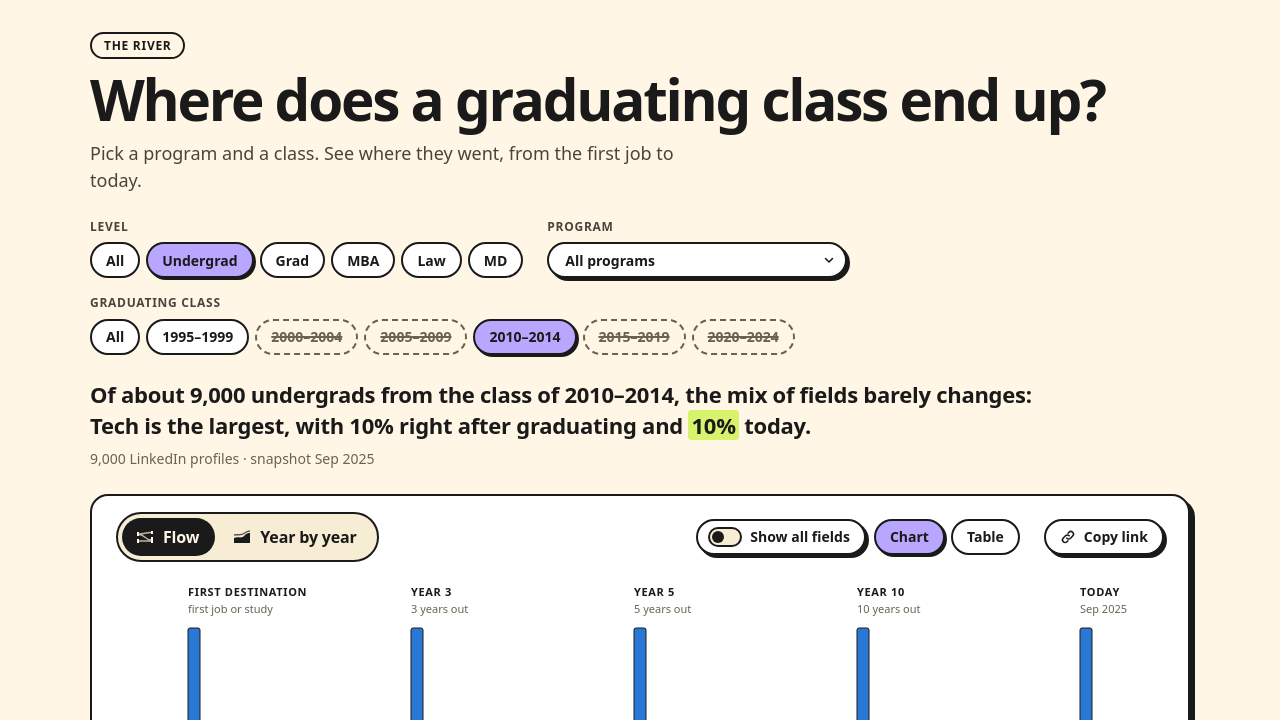
RiverView › filters programs in the combobox and picks one with the keyboard
Step 1. Replace the text in the dropdown labelled "Program" with "art" → (697, 260), box [547, 242, 847, 278]
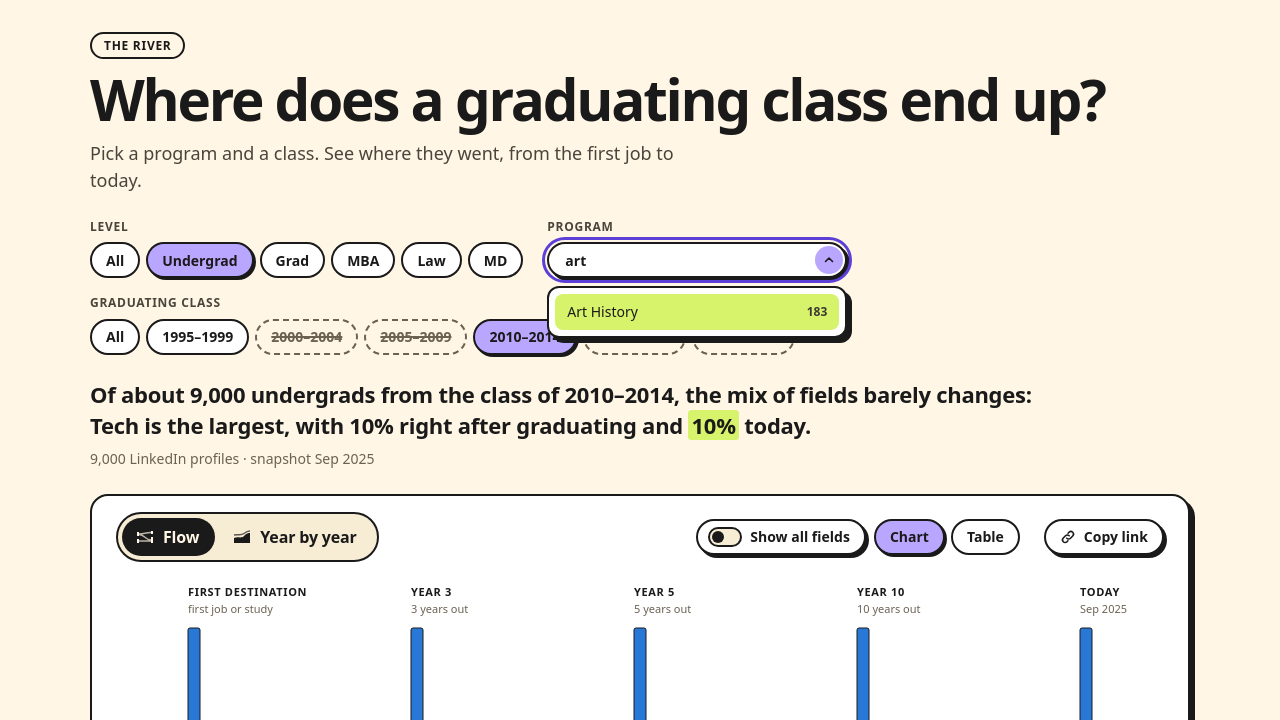
Expected: the options read "Art History183", in this order, [555, 294, 839, 330]
Step 2. Press Enter
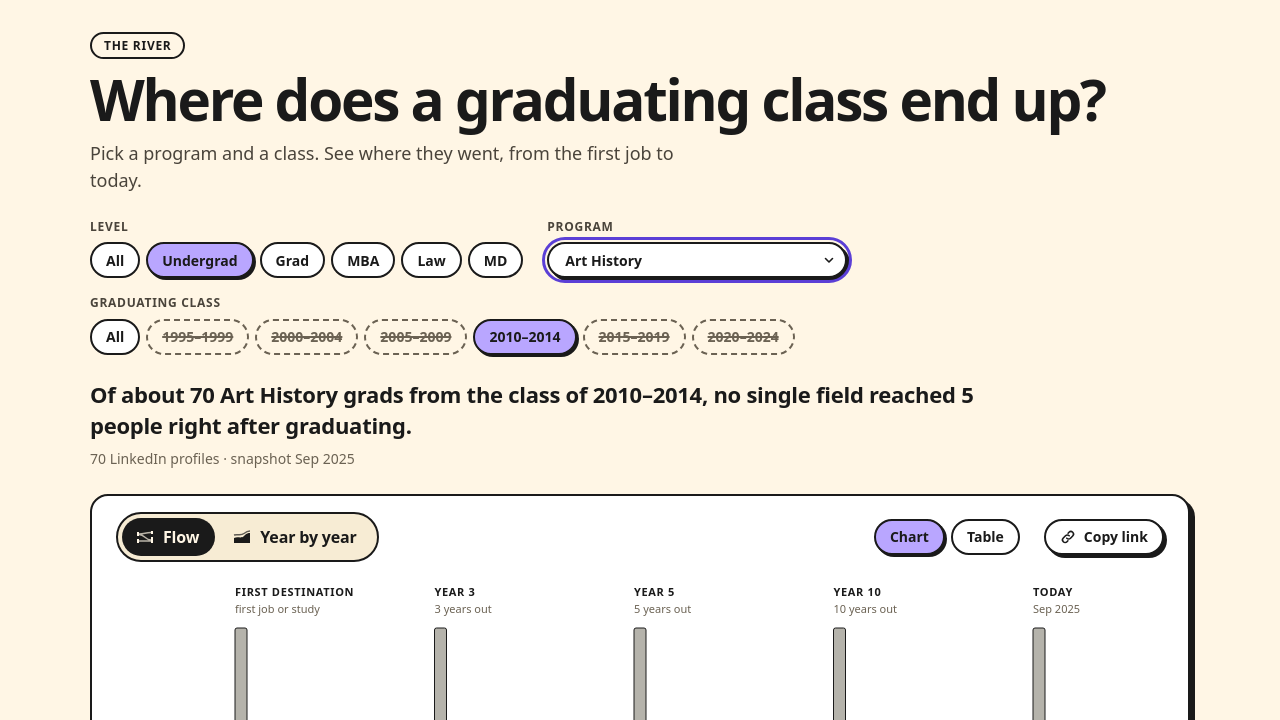
Expected: the dropdown labelled "Program" holds "Art History", [547, 242, 847, 278]
Expected: the list is gone
